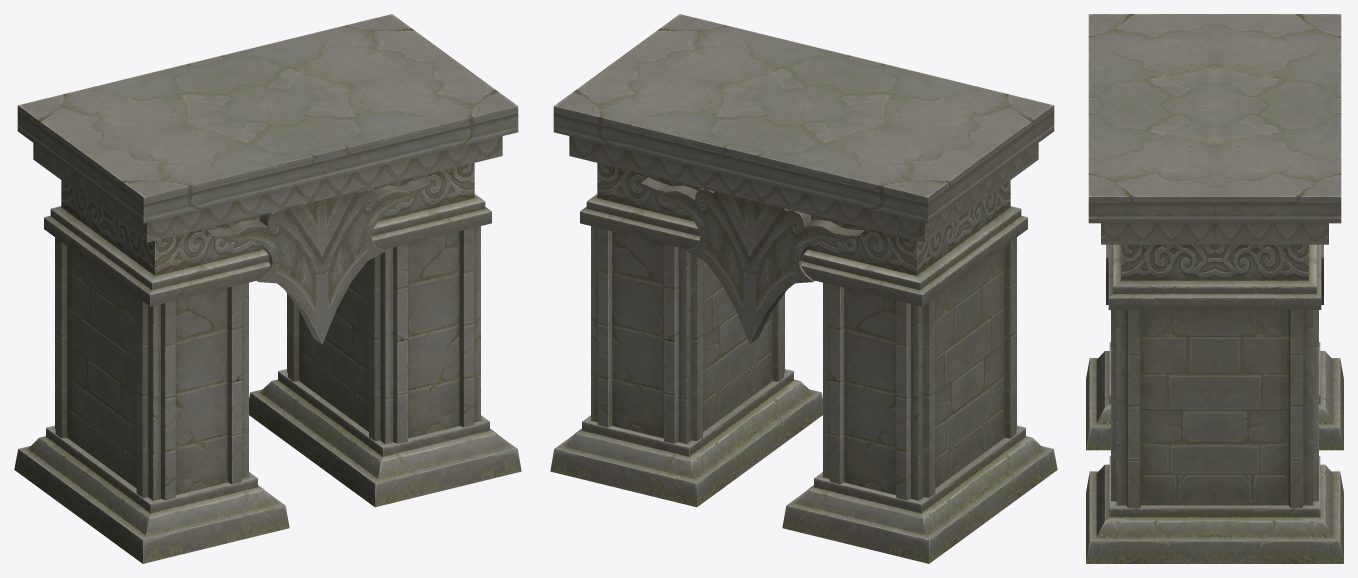
File: wlf_wujian01_jgc.FBX
The picture shows the model from 3 angles, left to right: view 1: azimuth 30°, elevation 25°; view 2: azimuth 150°, elevation 25°; view 3: azimuth 270°, elevation 25°; orthographic projection.
Parts seen in each view (by area): view 1: wlf_wujian01_jgc; view 2: wlf_wujian01_jgc; view 3: wlf_wujian01_jgc.
Part boxes in pixels (x1=…): wlf_wujian01_jgc: x1=14, y1=14, x2=521, y2=563; wlf_wujian01_jgc: x1=550, y1=14, x2=1057, y2=563; wlf_wujian01_jgc: x1=1086, y1=14, x2=1343, y2=563.
Bounding box in the file's own units: 55.12 × 50.73 × 32.41.
